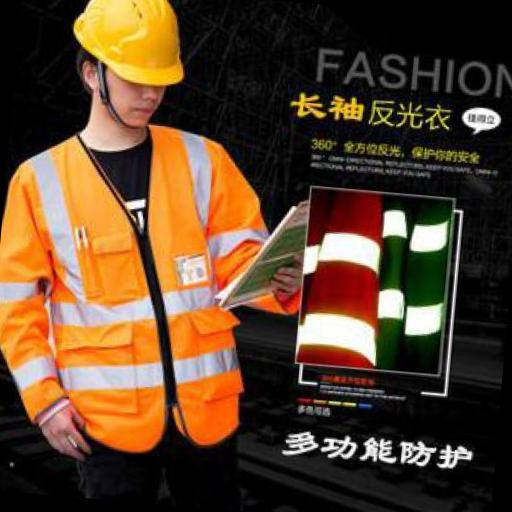No-gloves: (30, 390, 100, 465), (267, 249, 312, 302)
